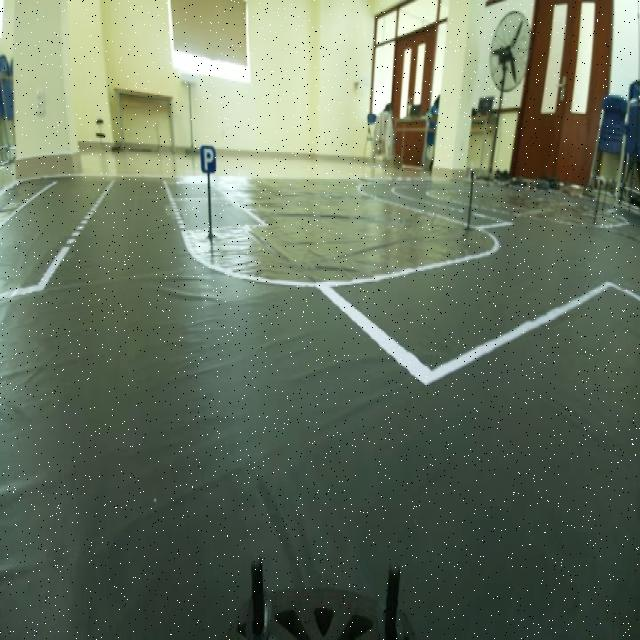parking: (197, 143, 218, 180)
